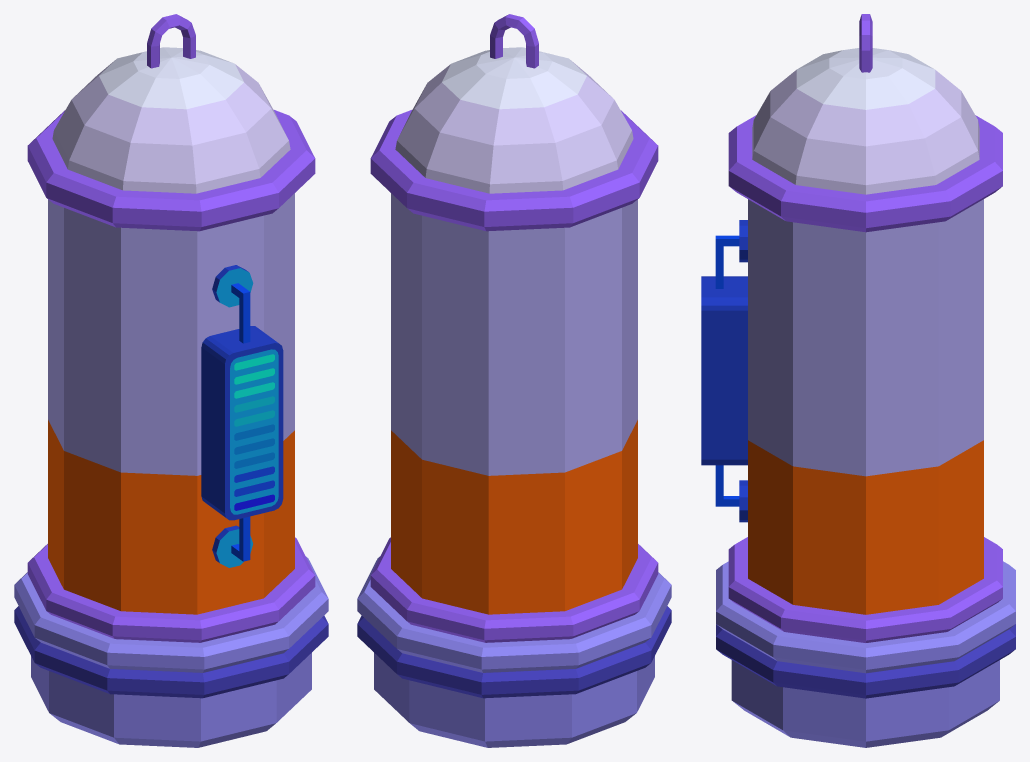
Rendered from Building_047_b.fbx.
3 views of the same model, side by side, from view 1: azimuth 30°, elevation 25°; view 2: azimuth 150°, elevation 25°; view 3: azimuth 270°, elevation 25° (orthographic).
Visible parts, largest first — view 1: Building_047_b; view 2: Building_047_b; view 3: Building_047_b.
Boxes of the visible parts, x1,y1,x2,y2 form: Building_047_b: (14,14,328,747); Building_047_b: (357,14,671,747); Building_047_b: (701,14,1015,747).
Bounding box in the file's own units: 7.79 × 18.43 × 7.8.
